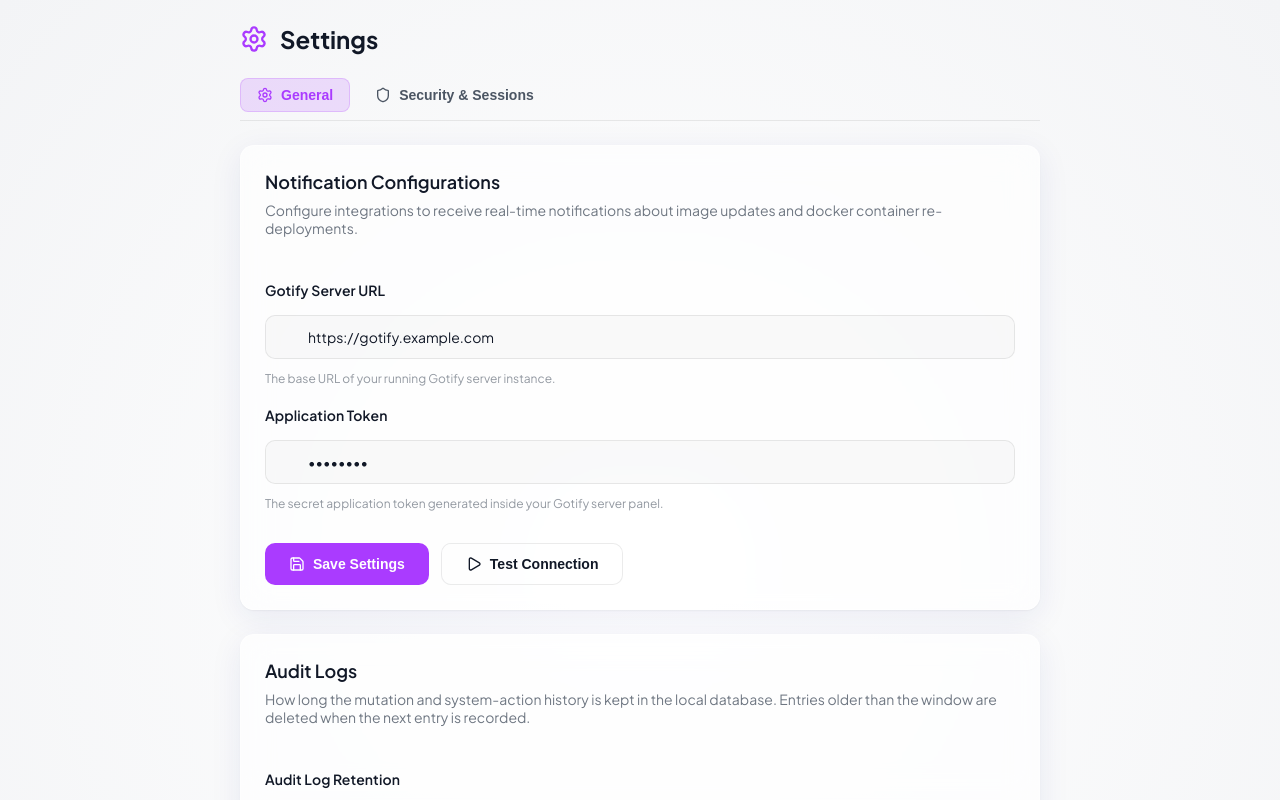
Test: Settings Component › switches to Security tab and renders active sessions and auth events
This screenshot has width=1280, height=800.
Click the button "Security & Sessions". click: (454, 95)
box: [358, 78, 551, 112]
(page scrolled)
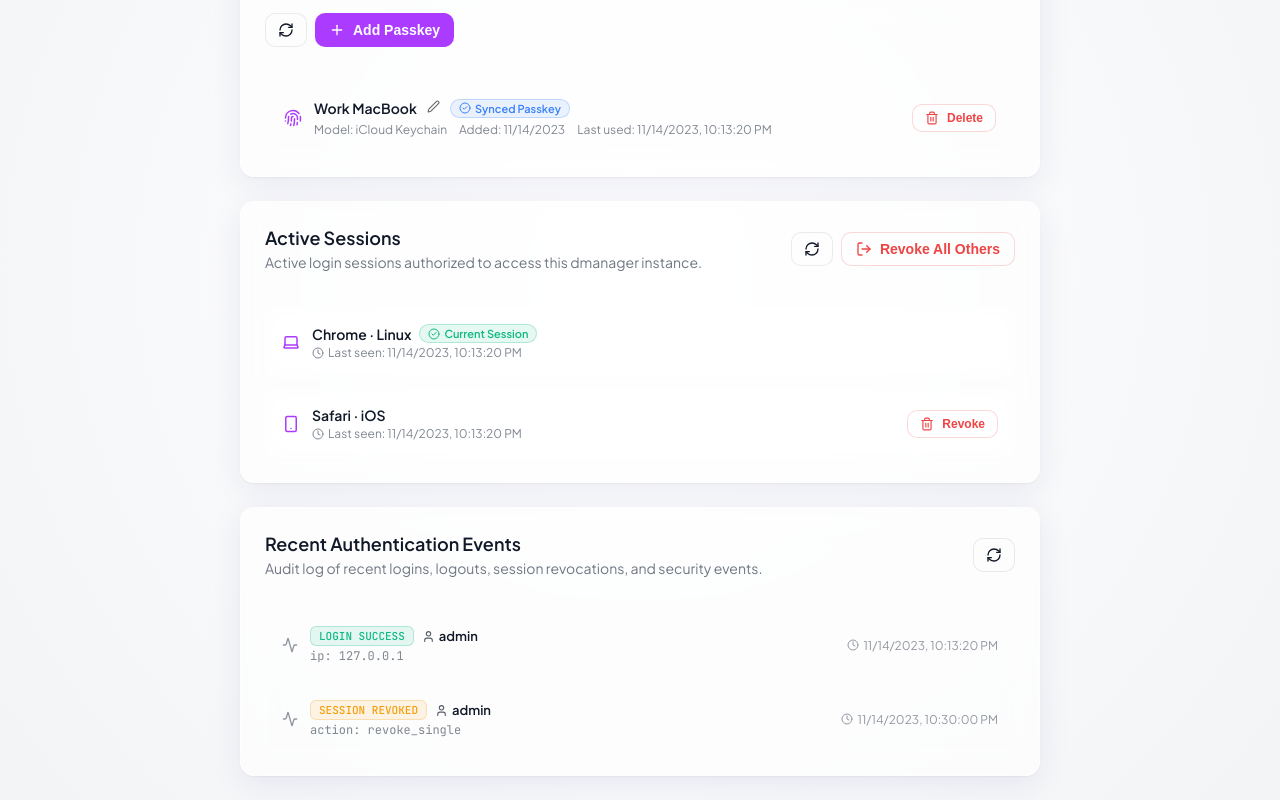
Expected: the text "Chrome · Linux" is shown, [312, 324, 411, 342]
Expected: the text "Current Session" is shown, [444, 327, 528, 340]
Expected: the text "Safari · iOS" is shown, [312, 406, 386, 424]
